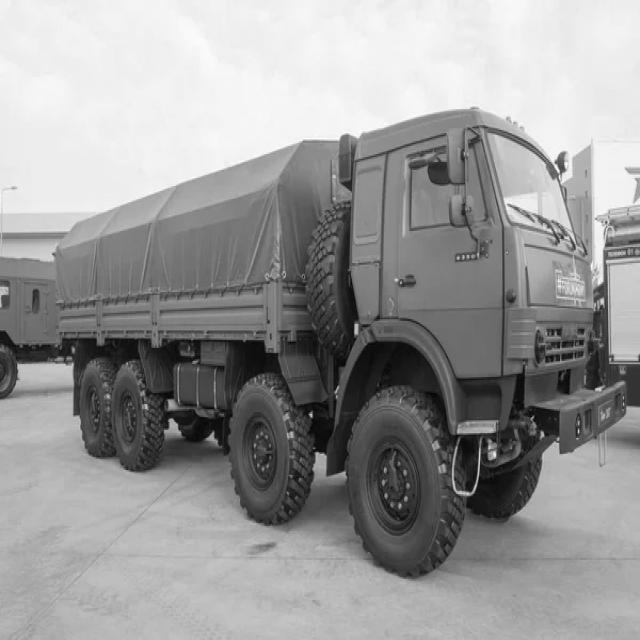Truck: (57, 109, 627, 577)
